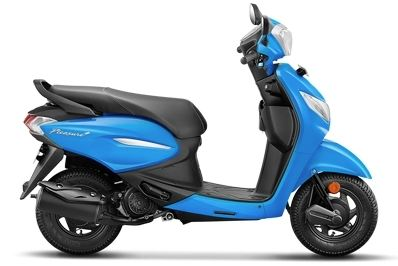bike: (20, 2, 378, 256)
